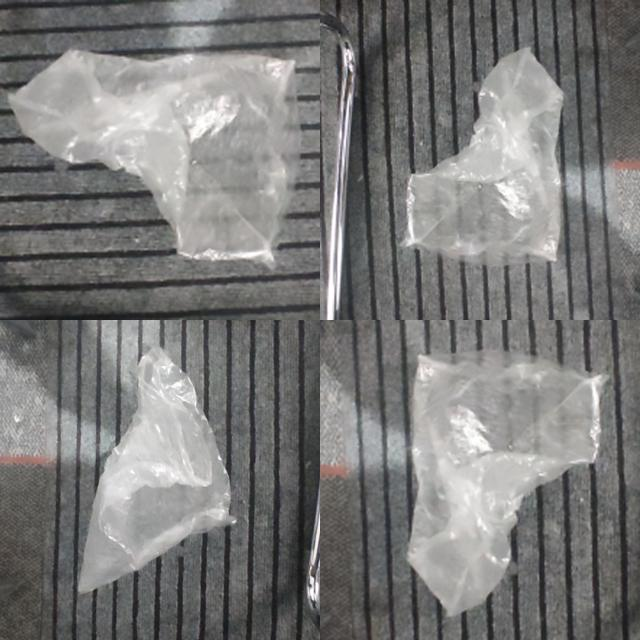Single-layer Plastic: (9, 50, 300, 268), (408, 351, 605, 616), (79, 348, 235, 592), (404, 48, 564, 265)
